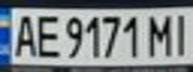1: (121, 11, 145, 58), (81, 12, 103, 59)
7: (100, 12, 121, 59)
9: (60, 12, 84, 60)
A: (9, 11, 39, 58)
E: (33, 10, 63, 60)
I: (169, 9, 193, 56)
M: (145, 10, 175, 57)
